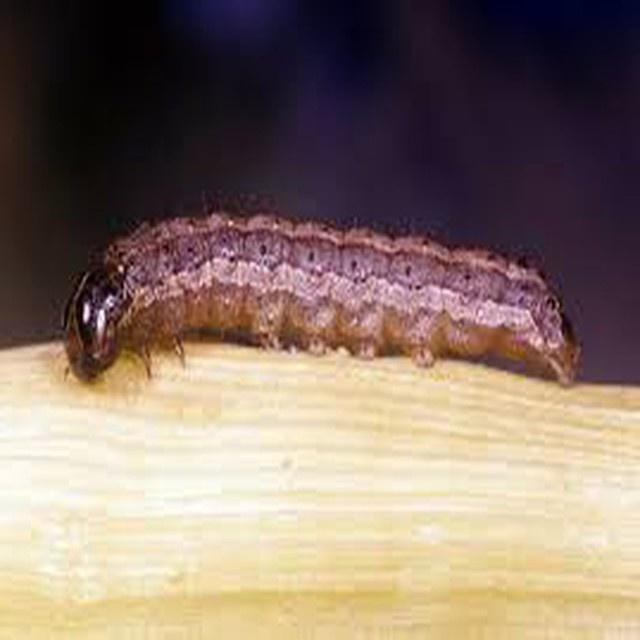gusano_cogollero: (56, 202, 594, 389)
